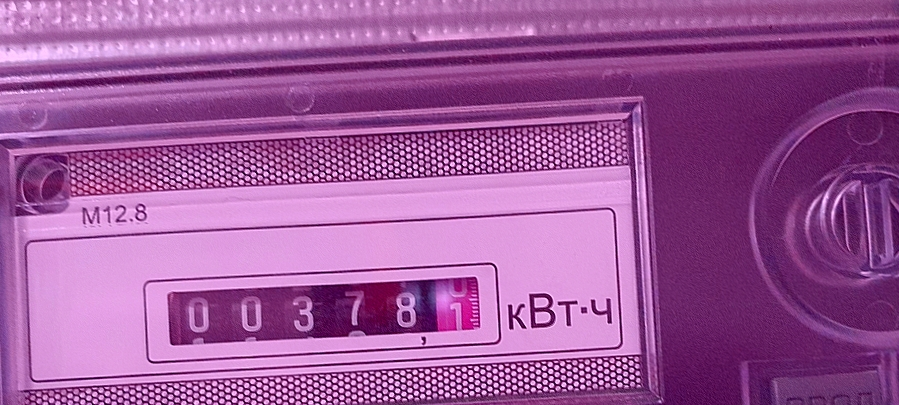0: (186, 292, 213, 333), (239, 292, 264, 331), (447, 275, 469, 297)
1: (447, 298, 466, 330)
3: (290, 292, 316, 333)
7: (342, 286, 366, 325)
8: (394, 288, 418, 328)
screen: (147, 257, 500, 354)
